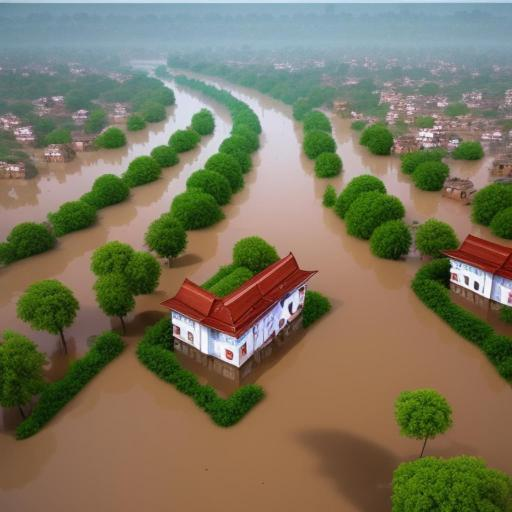flood: (0, 236, 512, 512), (128, 78, 474, 336), (0, 82, 232, 358), (176, 353, 238, 398), (446, 157, 494, 189), (44, 338, 77, 383)
house: (162, 249, 326, 377), (444, 227, 512, 341)
